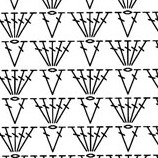chain: (86, 38, 95, 44)
enseble_chain: (6, 8, 43, 45), (82, 7, 118, 43), (7, 66, 43, 101), (83, 65, 118, 100), (7, 122, 42, 157), (46, 36, 80, 72), (28, 92, 58, 128), (86, 123, 117, 157), (66, 121, 95, 157), (41, 9, 72, 42), (116, 9, 147, 41), (121, 122, 149, 157), (43, 67, 72, 100), (28, 37, 56, 71), (118, 67, 147, 99), (68, 65, 95, 99), (67, 7, 94, 41), (43, 125, 71, 156), (8, 96, 35, 128), (83, 39, 109, 69), (84, 96, 109, 127), (8, 40, 33, 70), (48, 96, 66, 125), (122, 97, 140, 124), (123, 39, 139, 66)
fan: (36, 39, 57, 69), (75, 10, 96, 39), (0, 10, 18, 42), (0, 126, 20, 154), (82, 125, 99, 152), (6, 69, 23, 96)
